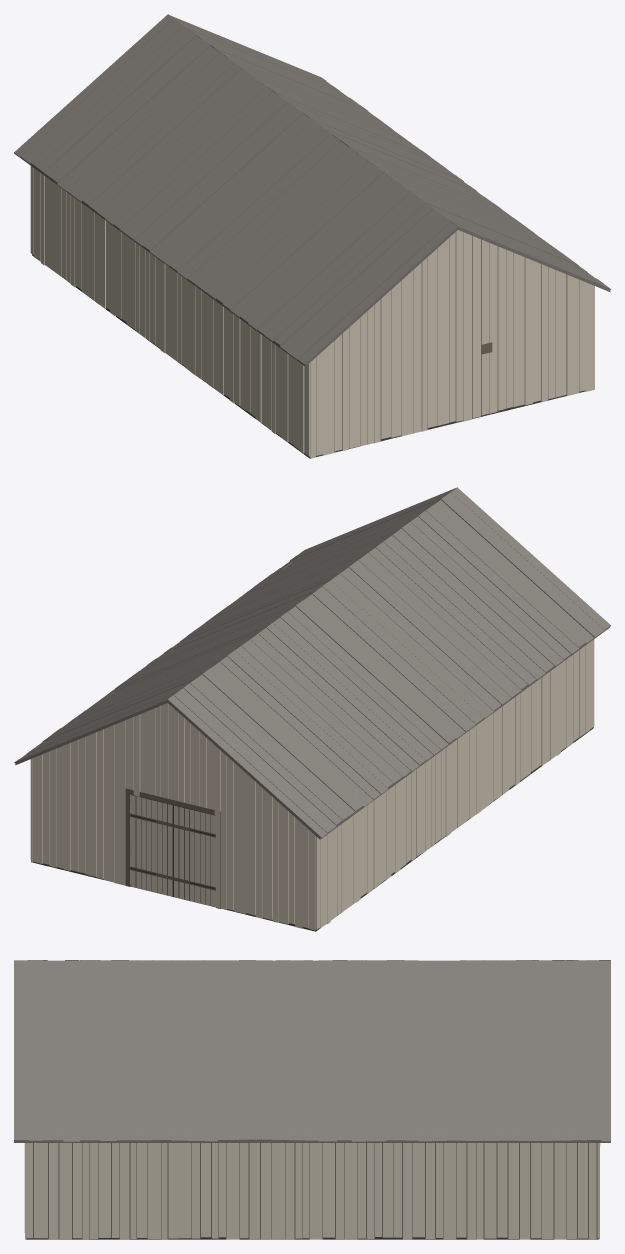
The model's file is recon_1835_north_w5_040__inferred_1835.glb.
3 views of the same model, one above another, from view 1: azimuth 30°, elevation 25°; view 2: azimuth 150°, elevation 25°; view 3: azimuth 270°, elevation 25° (orthographic). The views are drawn at different scales.
Parts seen in each view (by area): view 1: recon_1835_north_w5_040__inferred_1835; view 2: recon_1835_north_w5_040__inferred_1835; view 3: recon_1835_north_w5_040__inferred_1835.
Boxes of the visible parts, x1,y1,x2,y2 form: recon_1835_north_w5_040__inferred_1835: [14, 14, 610, 458]; recon_1835_north_w5_040__inferred_1835: [14, 487, 610, 931]; recon_1835_north_w5_040__inferred_1835: [14, 960, 610, 1239].
Bounding box in the file's own units: 10.46 × 6.56 × 17.03.
